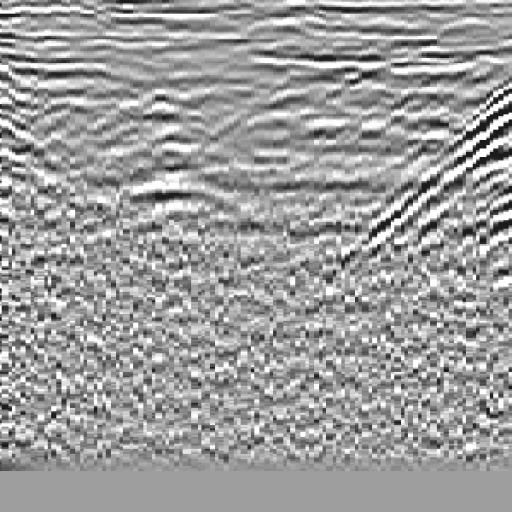metalic: (99, 44, 268, 252)
nonmetalic: (384, 60, 512, 279)
